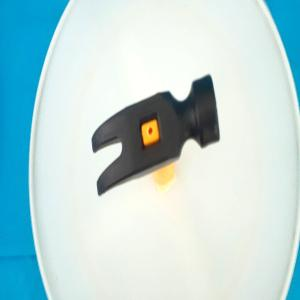martelo: (90, 73, 221, 198)
